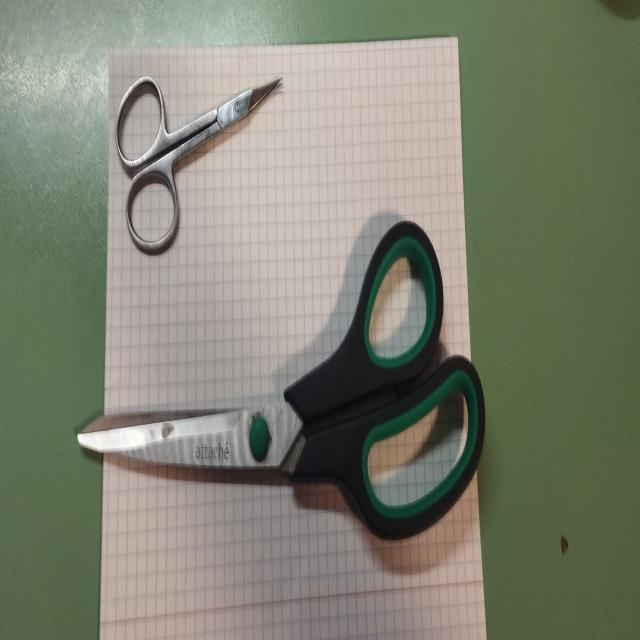tesoura: (76, 155, 508, 565), (116, 65, 284, 253)
